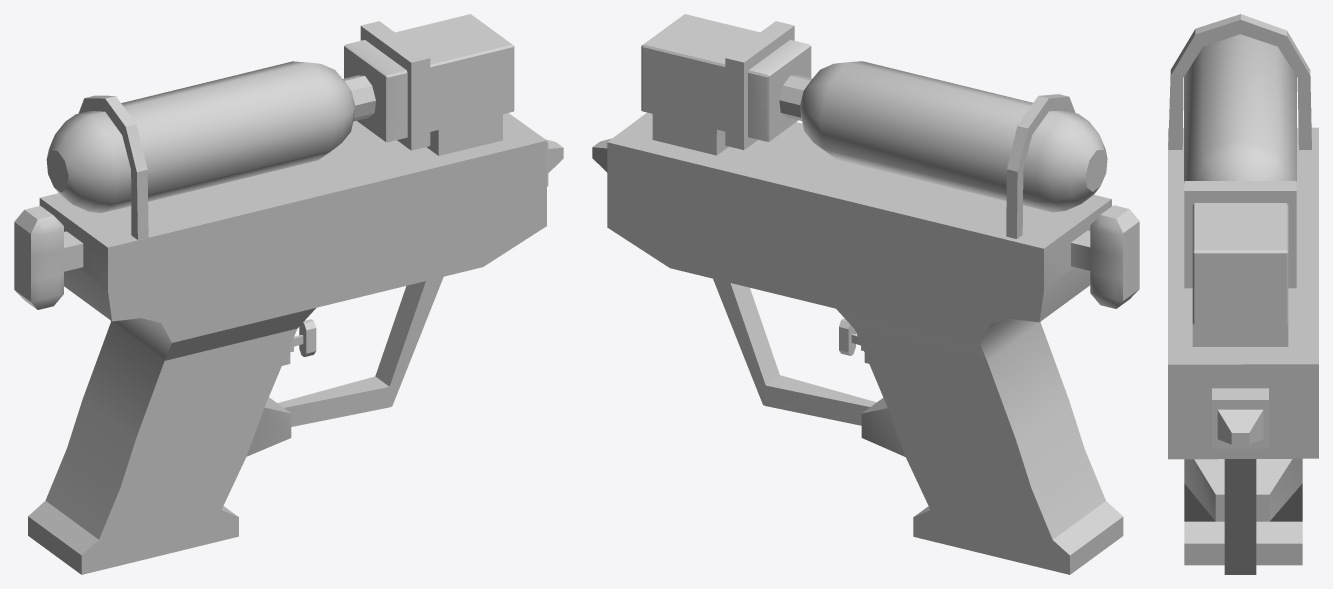
The model's file is Pistola de Água.FBX.
The picture shows the model from 3 angles, left to right: view 1: azimuth 30°, elevation 25°; view 2: azimuth 150°, elevation 25°; view 3: azimuth 270°, elevation 25°; orthographic projection. The views are drawn at different scales.
Parts seen in each view (by area): view 1: Box001; view 2: Box001; view 3: Box001.
Boxes of the visible parts, x1,y1,x2,y2 form: Box001: (14,14,563,574); Box001: (592,14,1139,574); Box001: (1168,14,1318,574).
Bounding box in the file's own units: 90.63 × 71.86 × 19.95.
